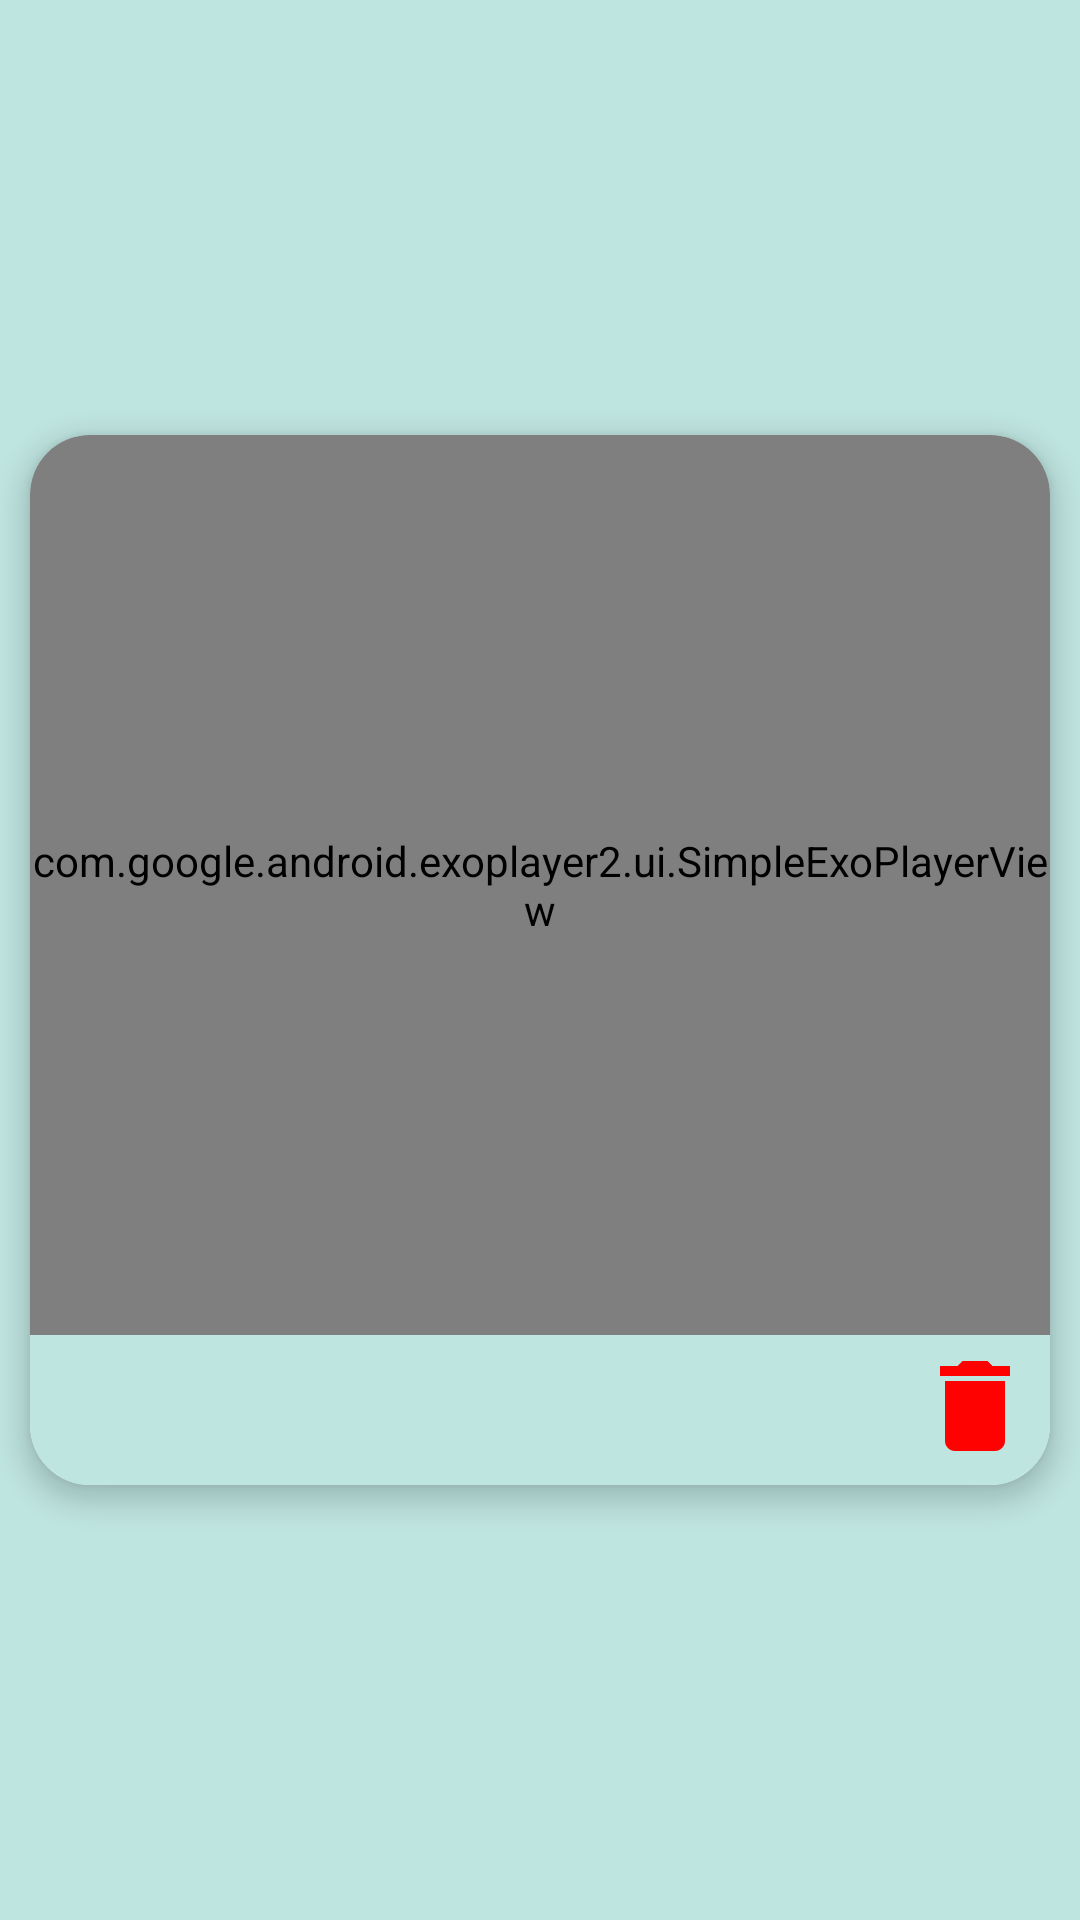

Icon bounding boxes for this 1080*1920 phone screenshot, format (x1, y1, x2, y2):
delete: (940, 1361, 1010, 1451)
